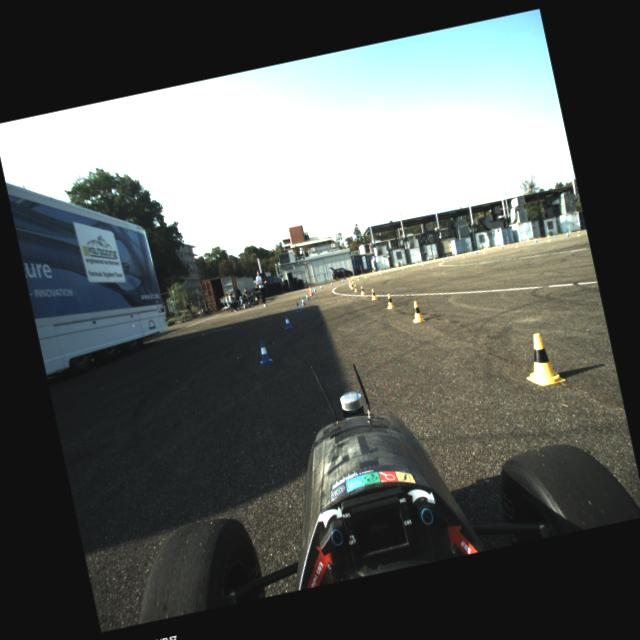blue_cone: (254, 338, 274, 366), (281, 313, 293, 330), (295, 301, 302, 312), (300, 296, 306, 305), (305, 292, 310, 300), (565, 231, 569, 237), (310, 288, 314, 294), (313, 286, 316, 292), (319, 284, 322, 289), (534, 237, 537, 242), (500, 244, 503, 248), (474, 250, 477, 253), (330, 282, 332, 286), (341, 278, 343, 282), (357, 274, 359, 278), (400, 264, 402, 268), (446, 255, 448, 259)
large_orange_cone: (307, 285, 313, 296), (348, 278, 352, 286)
yellow_cone: (517, 329, 566, 389), (409, 299, 425, 323), (384, 292, 395, 309), (368, 288, 378, 300), (359, 284, 365, 296), (352, 283, 358, 292), (349, 282, 354, 289), (576, 230, 580, 237), (546, 235, 550, 241), (514, 242, 518, 248), (421, 260, 424, 266), (351, 277, 354, 282), (462, 252, 464, 258), (356, 276, 359, 280), (350, 278, 352, 284), (482, 248, 484, 253), (442, 256, 444, 261), (402, 264, 404, 268), (379, 270, 381, 274), (364, 273, 366, 277), (226, 292, 228, 296)
